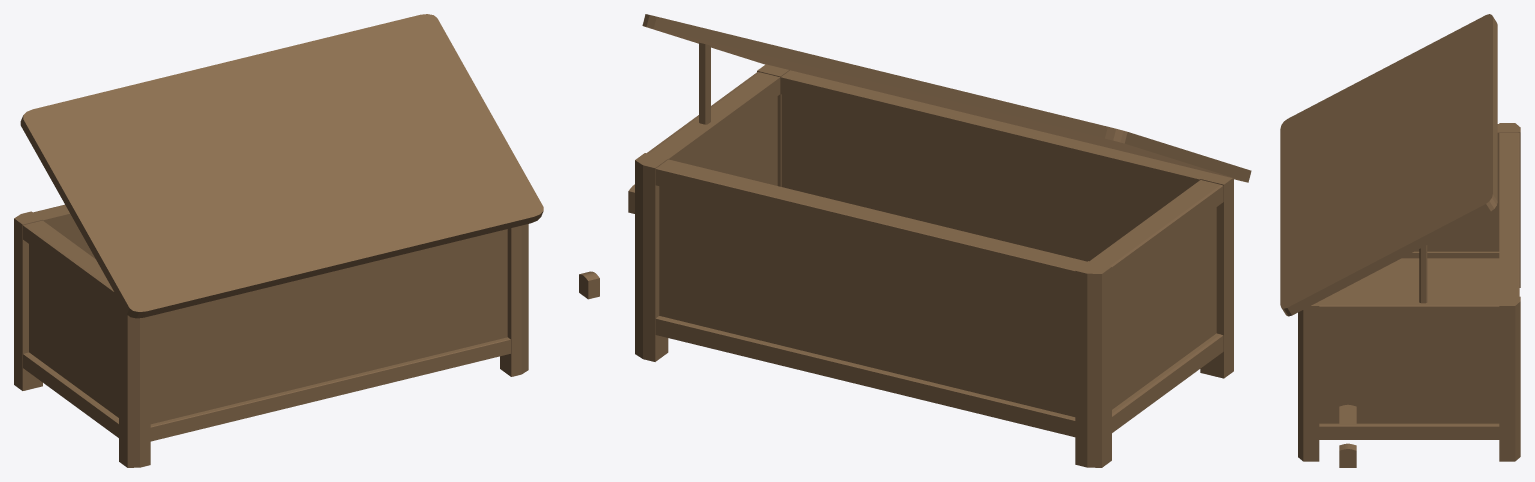
The model's file is chest.fbx.
3 views of the same model, side by side, from view 1: azimuth 30°, elevation 25°; view 2: azimuth 150°, elevation 25°; view 3: azimuth 270°, elevation 25° (orthographic). The views are drawn at different scales.
Parts seen in each view (by area): view 1: Cube.034, Cube.033, Cube.032, Cube.037, Cube.043, Cube.046, Cube.041, Cube.042, Cube.038, Cube.040; view 2: Cube.031, Cube.033, Cube.032, Cube.040, Cube.034, Cube.036, Cube.039, Cube.042, Cube.045, Cube.041, Cube.044, Cube.043 (+4 smaller); view 3: Cube.034, Cube.027, Cube.029, Cube.044, Cube.045, Cube.040, Cube.046, Cube.030, Cube.032, Cube.048, Cube.026, Cube.038 (+4 smaller).
Part boxes in pixels (x1,y1,x2,y2): Cube.034: (20,14,543,318); Cube.033: (150,229,507,424); Cube.032: (29,244,118,417); Cube.037: (150,337,510,441); Cube.043: (119,301,150,467); Cube.046: (500,224,528,376); Cube.041: (23,220,118,309); Cube.042: (14,211,42,390); Cube.038: (23,352,118,437); Cube.040: (33,204,77,231); Cube.031: (659,186,1075,416); Cube.033: (781,94,1182,261); Cube.032: (1112,207,1216,409); Cube.040: (655,159,1086,287); Cube.034: (642,14,1251,182); Cube.036: (780,70,1208,192); Cube.039: (655,316,1075,437); Cube.042: (1075,261,1111,467); Cube.045: (635,153,668,361); Cube.041: (1090,180,1223,283); Cube.044: (647,72,780,163); Cube.043: (1200,172,1233,378); Cube.034: (1280,14,1497,316); Cube.027: (1319,319,1499,423); Cube.029: (1327,258,1499,417); Cube.044: (1319,297,1499,319); Cube.045: (1499,296,1520,461); Cube.040: (1499,132,1519,296); Cube.046: (1298,301,1319,461); Cube.030: (1319,417,1499,439); Cube.032: (1415,146,1499,251); Cube.048: (1319,349,1339,423); Cube.026: (1356,406,1441,423); Cube.038: (1402,251,1499,258).
Size of the model in its own units: 2566 by 1392 by 1146.
